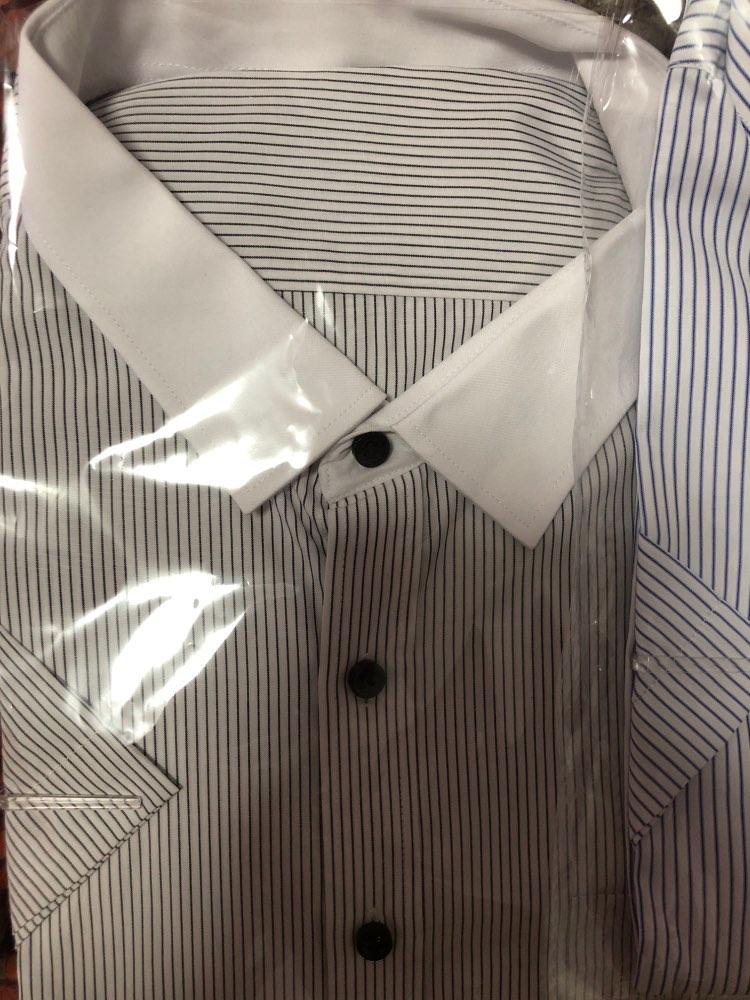shirts: (1, 3, 743, 1000)
